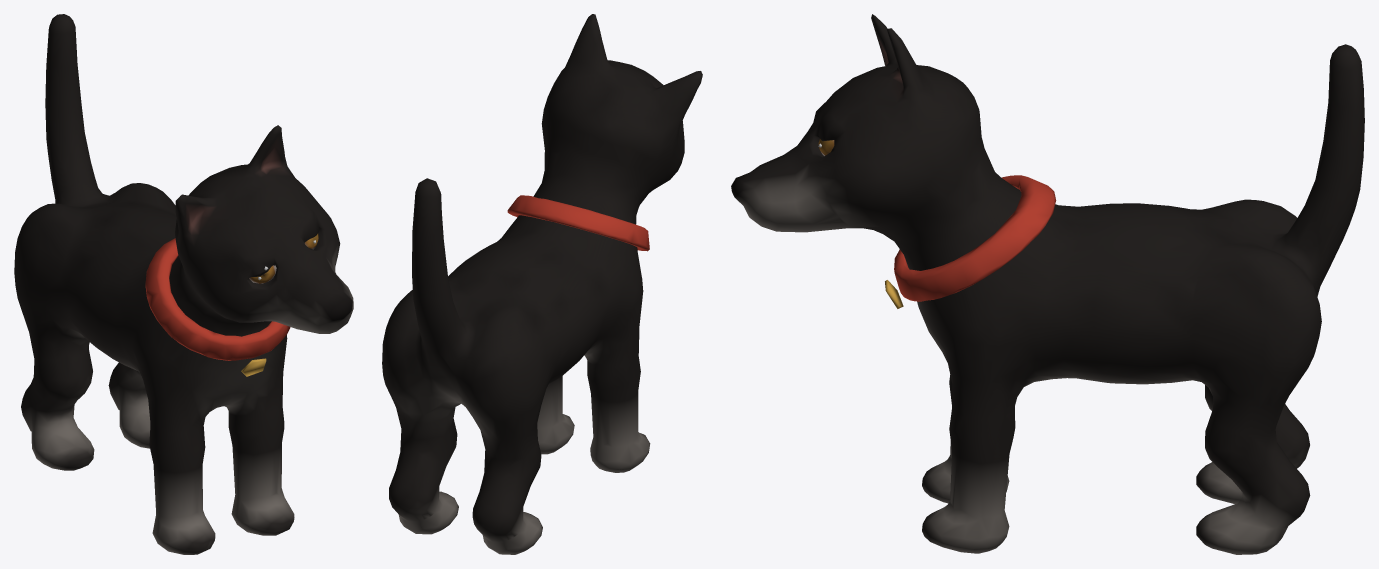
The model's file is cho_muc_nghi_ngo.glb.
3 views of the same model, side by side, from view 1: azimuth 30°, elevation 25°; view 2: azimuth 150°, elevation 25°; view 3: azimuth 270°, elevation 25° (orthographic). The views are drawn at different scales.
Visible parts, largest first — view 1: cho_muc_nghi_ngo; view 2: cho_muc_nghi_ngo; view 3: cho_muc_nghi_ngo.
Part boxes in pixels (box(x1,y1,x2,y2)): cho_muc_nghi_ngo: box(14, 14, 353, 554); cho_muc_nghi_ngo: box(382, 14, 702, 554); cho_muc_nghi_ngo: box(731, 14, 1364, 554).
Size of the model in its own units: 0.3723 by 0.9399 by 1.06.
